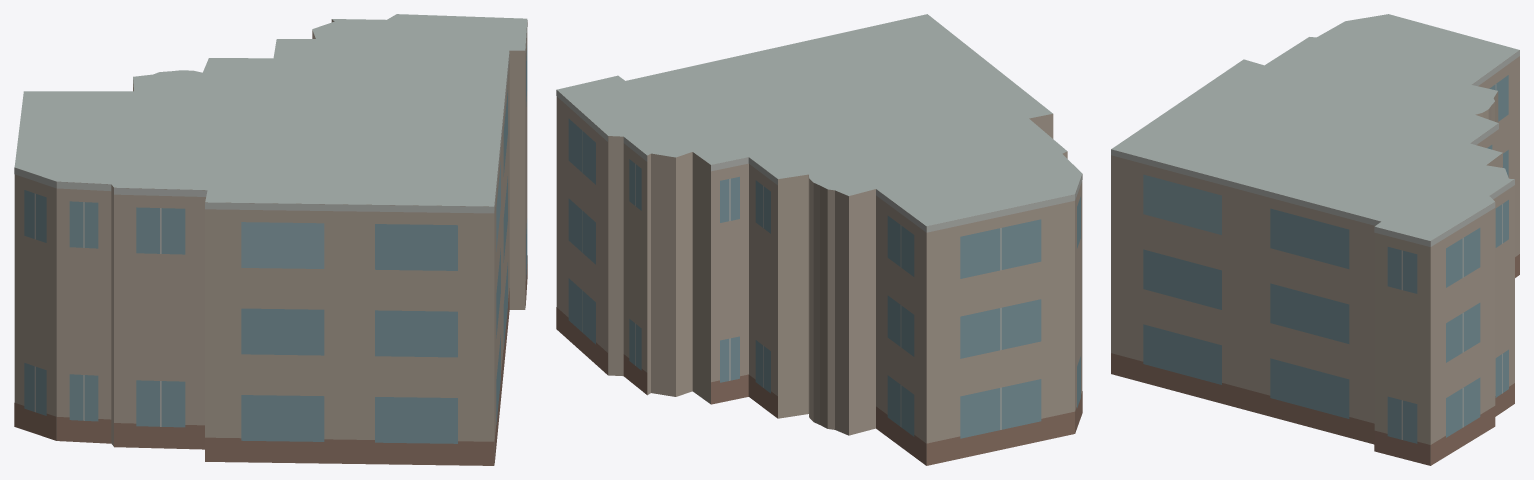
Rendered from survey-upis-33013239.glb.
3 views of the same model, side by side, from view 1: azimuth 30°, elevation 25°; view 2: azimuth 150°, elevation 25°; view 3: azimuth 270°, elevation 25° (orthographic). The views are drawn at different scales.
Parts seen in each view (by area): view 1: survey-upis-33013239.tmp; view 2: survey-upis-33013239.tmp; view 3: survey-upis-33013239.tmp.
Part boxes in pixels (x1,y1,x2,y2): survey-upis-33013239.tmp: (14, 14, 527, 465); survey-upis-33013239.tmp: (556, 14, 1082, 465); survey-upis-33013239.tmp: (1111, 14, 1519, 465).
Size of the model in its own units: 19.84 by 9.15 by 15.09.
